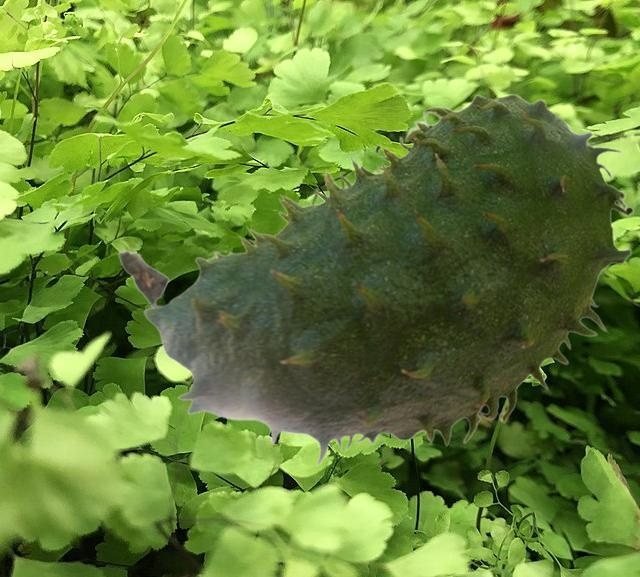guyabano: (117, 93, 633, 466)
